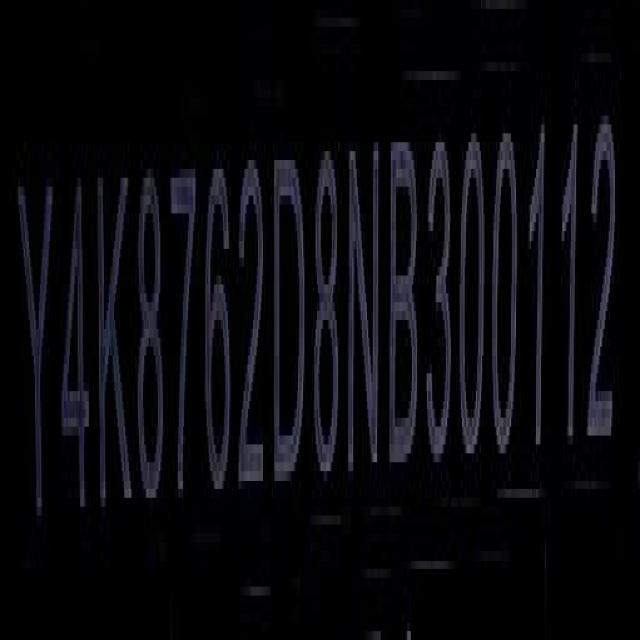0: (460, 129, 487, 465), (494, 120, 520, 465)
1: (557, 107, 578, 459), (528, 117, 548, 466)
2: (590, 109, 622, 458), (237, 154, 268, 499)
3: (428, 134, 454, 470)
4: (60, 165, 92, 527)
6: (203, 168, 236, 517)
7: (172, 156, 200, 506)
8: (313, 146, 342, 484), (138, 162, 166, 510)
B: (391, 133, 421, 472)
D: (274, 151, 308, 494)
K: (97, 163, 133, 523)
N: (350, 137, 384, 480)
Y: (18, 171, 53, 547)
